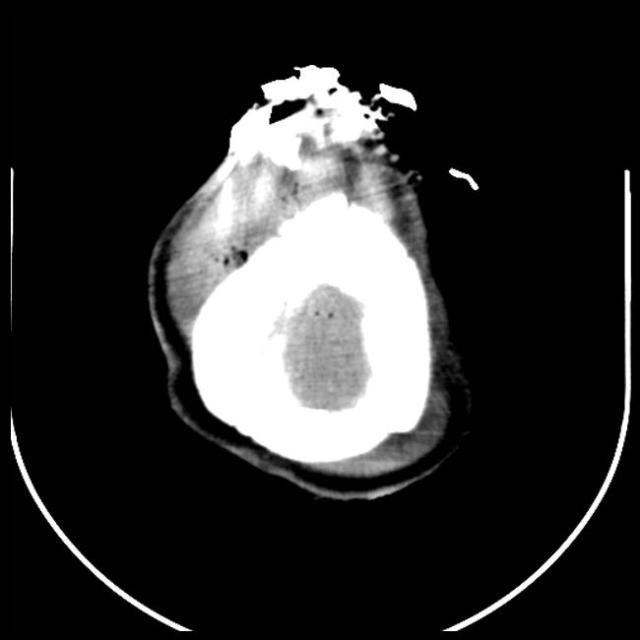lesion: (142, 59, 482, 504)
